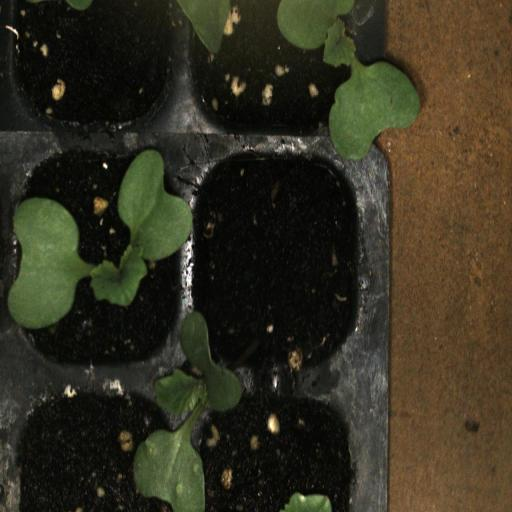Folha: (133, 310, 243, 512), (166, 0, 234, 53)
Germinacao: (181, 146, 365, 387), (5, 144, 181, 384), (182, 0, 363, 142)
